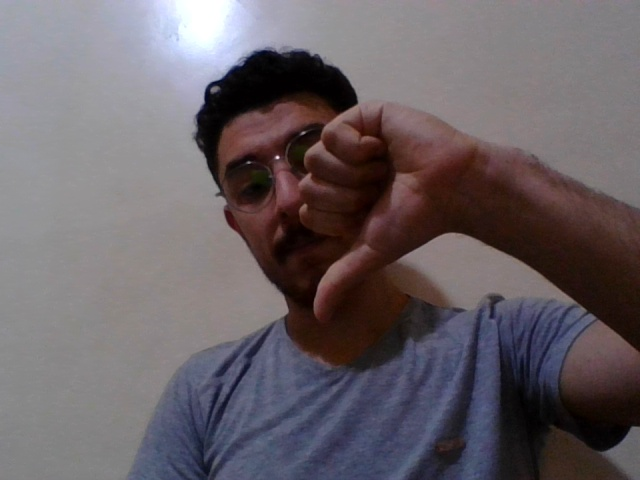No: (290, 55, 553, 353)
